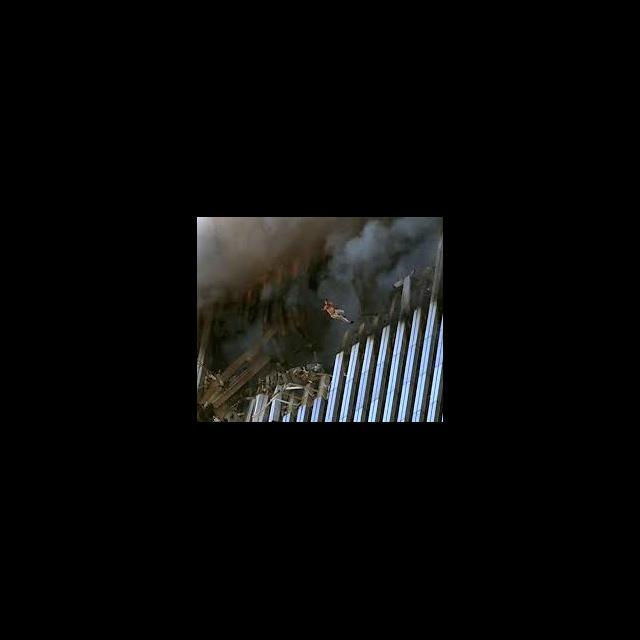Smoke: (199, 218, 289, 272), (292, 220, 345, 249), (346, 224, 384, 256), (221, 325, 261, 352), (320, 252, 344, 290), (402, 244, 434, 264), (400, 218, 432, 236), (326, 327, 342, 343)
